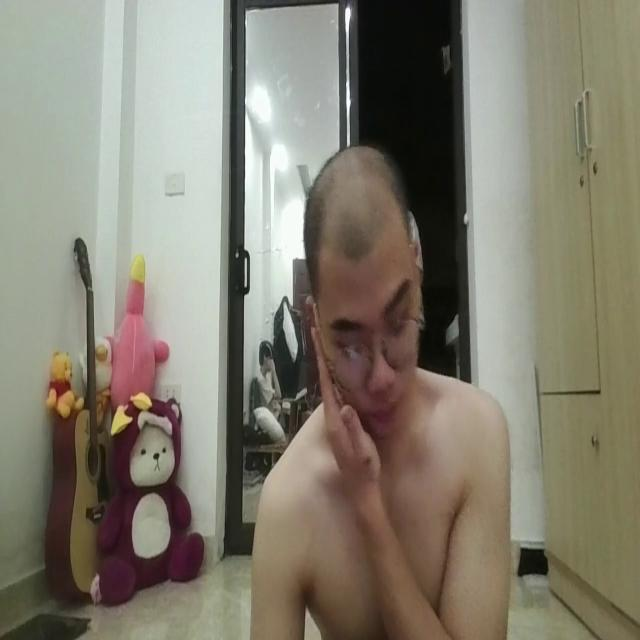extra_person: (249, 322, 286, 452)
student: (244, 132, 516, 640)
